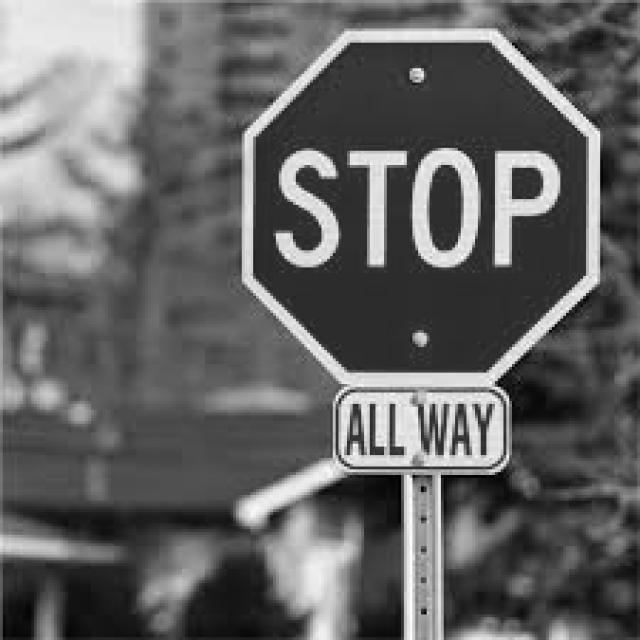stop sign: (246, 29, 604, 472)
